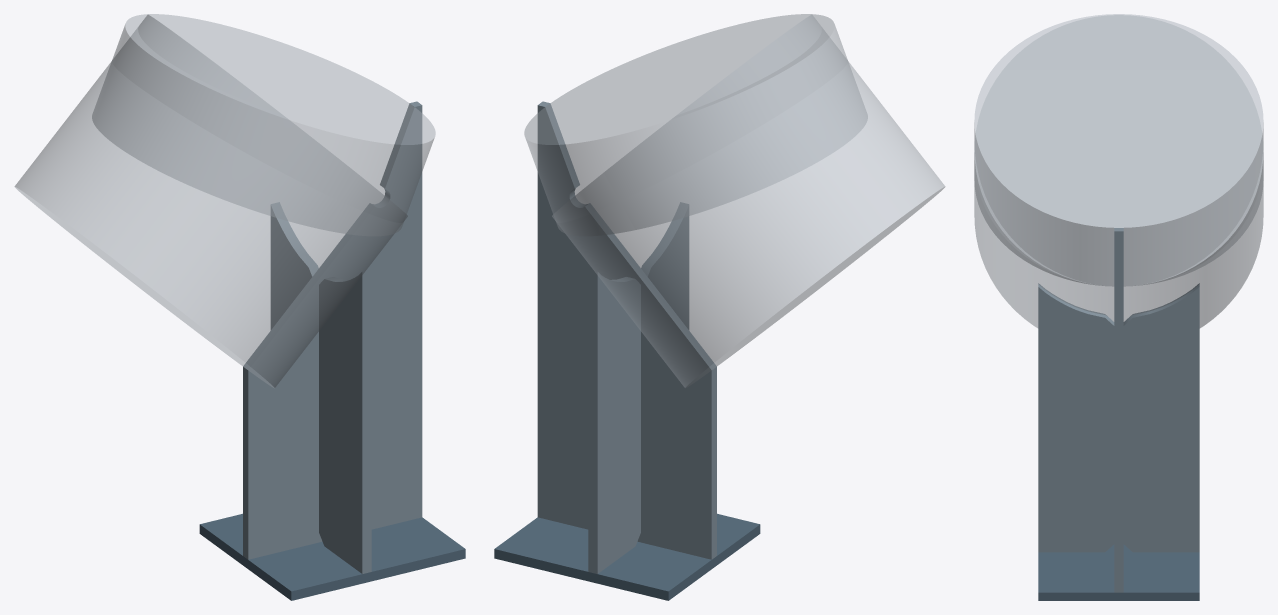
The model's file is TS-631.000-06-opora-dn377-R570.glb.
The picture shows the model from 3 angles, left to right: view 1: azimuth 30°, elevation 25°; view 2: azimuth 150°, elevation 25°; view 3: azimuth 270°, elevation 25°; orthographic projection. The views are drawn at different scales.
Visible parts, largest first — view 1: truba_1, truba_0, kosynka_1, rebro_3, osnovanie_0, rebro_2; view 2: truba_1, truba_0, kosynka_1, rebro_2, osnovanie_0, rebro_3; view 3: truba_1, truba_0, rebro_2, rebro_3, osnovanie_0, kosynka_1.
Part boxes in pixels (box(x1,y1,x2,y2)): truba_1: box(14, 15, 407, 388); truba_0: box(92, 14, 435, 236); kosynka_1: box(243, 101, 422, 559); rebro_3: box(319, 269, 371, 573); osnovanie_0: box(199, 513, 465, 600); rebro_2: box(270, 202, 318, 329); truba_1: box(552, 15, 945, 388); truba_0: box(524, 14, 867, 236); kosynka_1: box(537, 101, 716, 559); rebro_2: box(588, 269, 640, 573); osnovanie_0: box(494, 513, 760, 600); rebro_3: box(641, 202, 689, 329); truba_1: box(974, 15, 1263, 327); truba_0: box(974, 14, 1263, 286); rebro_2: box(1123, 283, 1199, 552); rebro_3: box(1038, 283, 1114, 552); osnovanie_0: box(1038, 544, 1199, 600); kosynka_1: box(1114, 228, 1123, 592).
Size of the model in its own units: 497 by 694 by 377.
